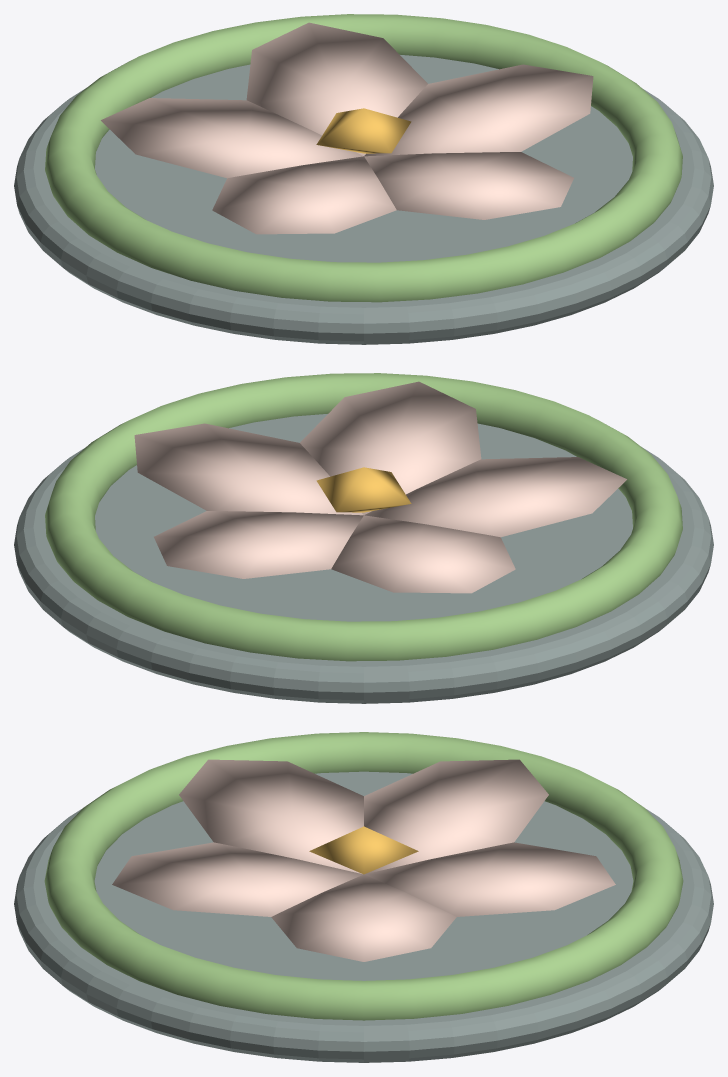
The model's file is heaven_goal.glb.
3 renders of one model, top to bottom at view 1: azimuth 30°, elevation 25°; view 2: azimuth 150°, elevation 25°; view 3: azimuth 270°, elevation 25°, orthographic.
Visible parts, largest first — view 1: Merged Garden slate stone, Merged Ivory petal tips, Merged Leaf sunlit side, Merged Pollen warm gold; view 2: Merged Garden slate stone, Merged Ivory petal tips, Merged Leaf sunlit side, Merged Pollen warm gold; view 3: Merged Garden slate stone, Merged Ivory petal tips, Merged Leaf sunlit side, Merged Pollen warm gold.
Boxes of the visible parts, x1,y1,x2,y2 form: Merged Garden slate stone: [14, 55, 713, 344]; Merged Ivory petal tips: [101, 22, 593, 234]; Merged Leaf sunlit side: [45, 14, 682, 302]; Merged Pollen warm gold: [316, 108, 411, 153]; Merged Garden slate stone: [14, 414, 713, 703]; Merged Ivory petal tips: [134, 381, 626, 593]; Merged Leaf sunlit side: [45, 373, 682, 661]; Merged Pollen warm gold: [316, 467, 411, 512]; Merged Garden slate stone: [14, 771, 713, 1062]; Merged Ivory petal tips: [112, 759, 615, 961]; Merged Leaf sunlit side: [44, 732, 683, 1020]; Merged Pollen warm gold: [309, 826, 418, 874].
Bounding box in the file's own units: 1.26 × 0.189 × 1.26.
